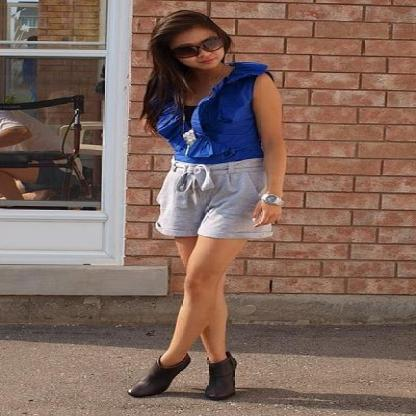shirt: (151, 61, 286, 166)
shoe: (128, 358, 242, 401)
shorts: (155, 156, 273, 238)
sunglass: (174, 30, 236, 64)
